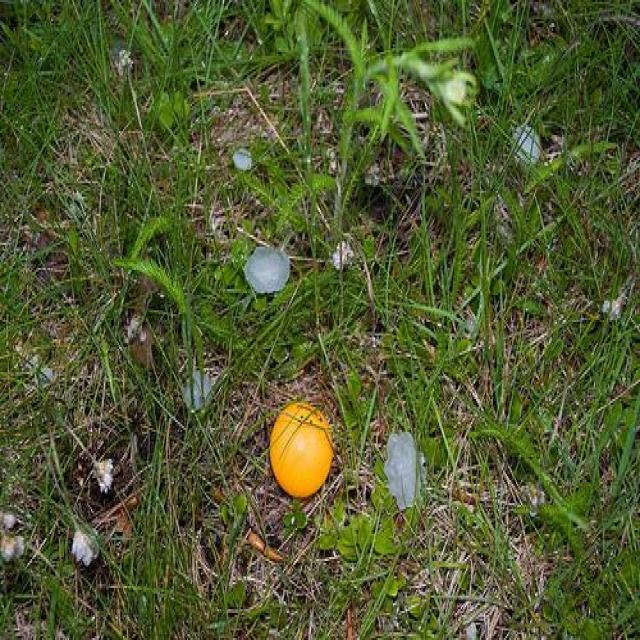ping-pong-ball: (269, 402, 335, 498)
